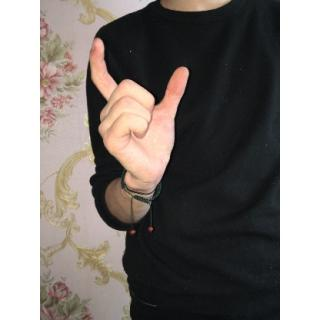NOON: (86, 33, 190, 192)
